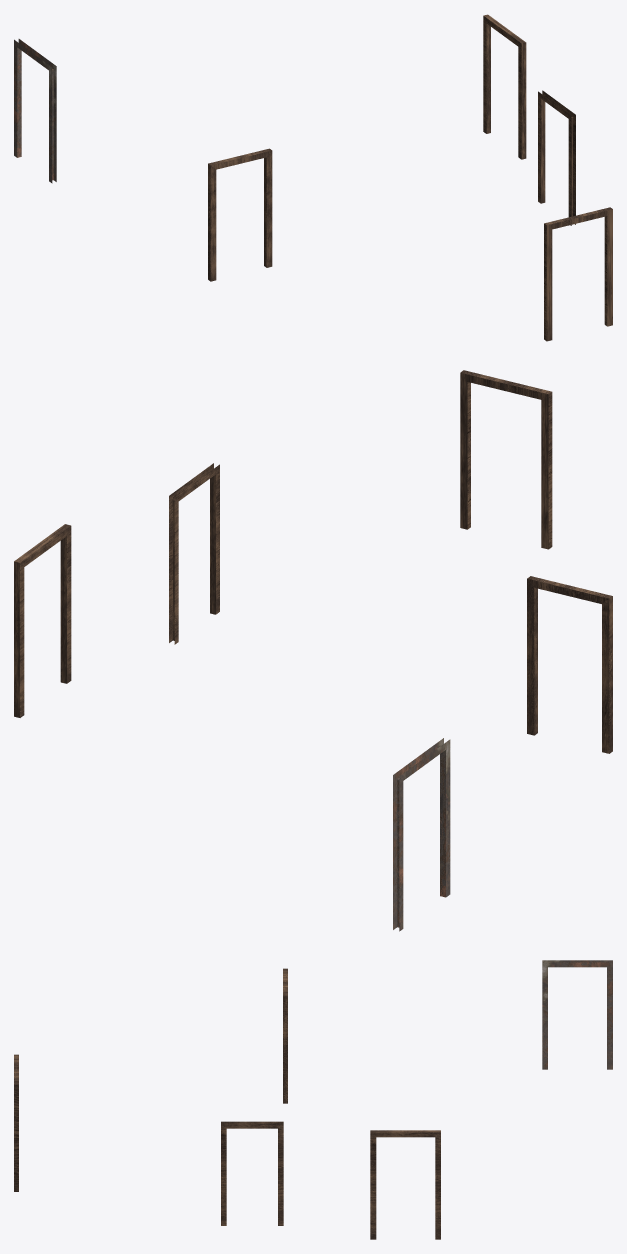
The model's file is E_DOOR_L_11.fbx.
The picture shows the model from 3 angles, top to bottom: view 1: azimuth 30°, elevation 25°; view 2: azimuth 150°, elevation 25°; view 3: azimuth 270°, elevation 25°; orthographic projection. The views are drawn at different scales.
Visible parts, largest first — view 1: E_DOOR_L_11; view 2: E_DOOR_L_11; view 3: E_DOOR_L_11.
Part boxes in pixels (x1,y1,x2,y2): E_DOOR_L_11: [14, 14, 612, 341]; E_DOOR_L_11: [14, 370, 612, 931]; E_DOOR_L_11: [14, 960, 612, 1239].
Size of what is drawn, in the model's own units: 829 by 242 by 1220.
Materials: 2 (2 with a texture image).
